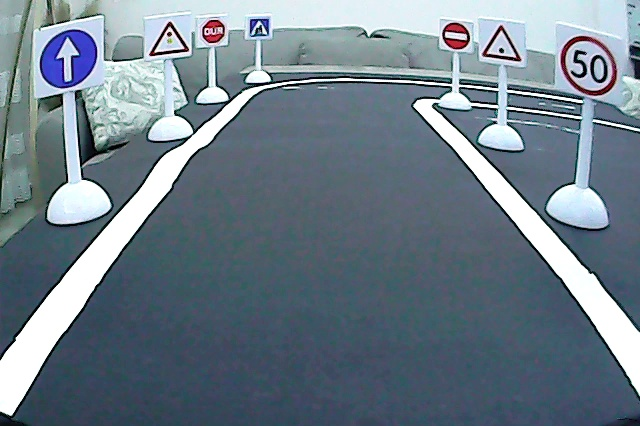do not enter: (441, 21, 472, 52)
green light: (478, 20, 526, 64)
red light: (147, 18, 191, 59)
school crossing: (246, 16, 272, 39)
speed limit 50: (558, 32, 620, 98)
stop sign: (200, 18, 228, 47)
